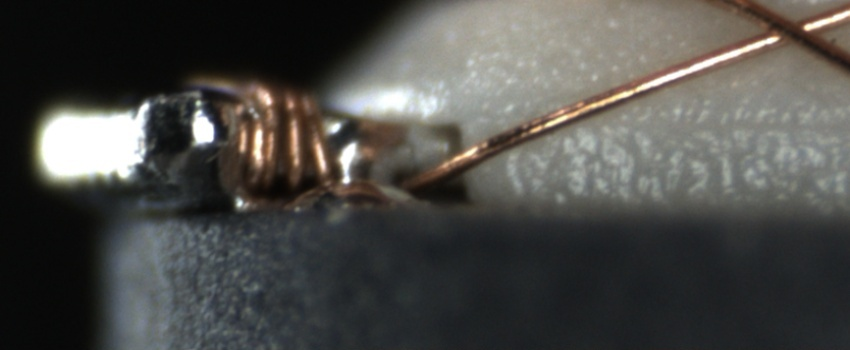CL: (740, 3, 835, 54)
DL: (604, 91, 850, 155)
TE: (181, 66, 361, 203)
